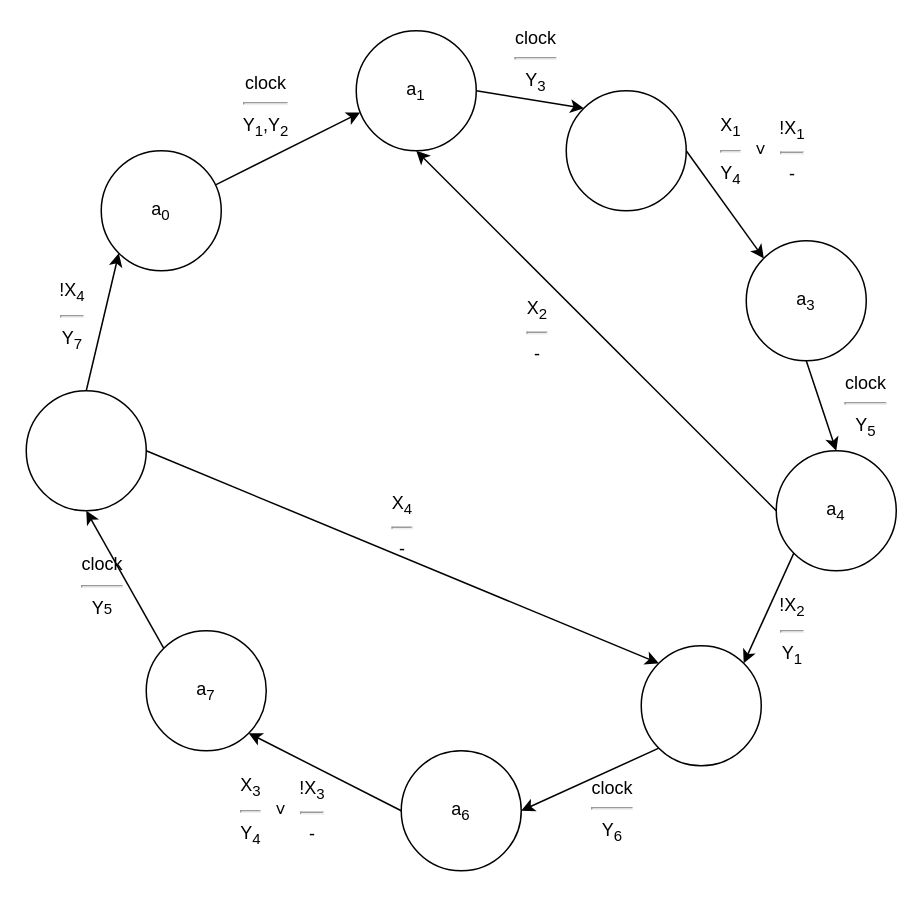
The diagram is 923 pixels wide and 897 high, and some of its shapes have lost their labels. The shapes that lost their labels are listed below. From the top down, each one's centre as x and y in pixels, then its label:
At point (625, 150): "a 2".
At point (85, 450): "a 8".
At point (700, 705): "a 5".
